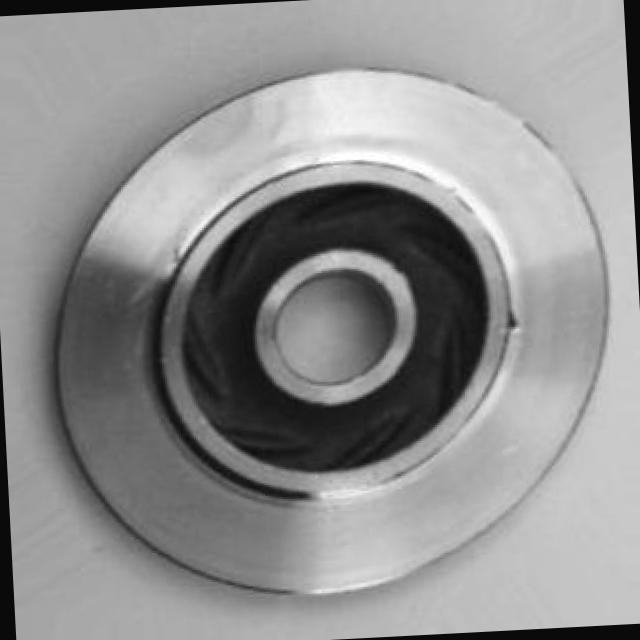Defect: (500, 304, 524, 339)
